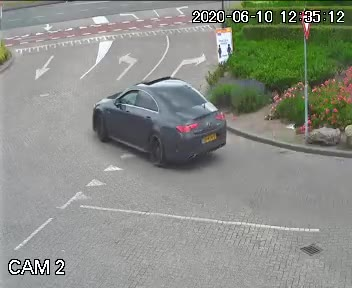car: (86, 64, 231, 180)
